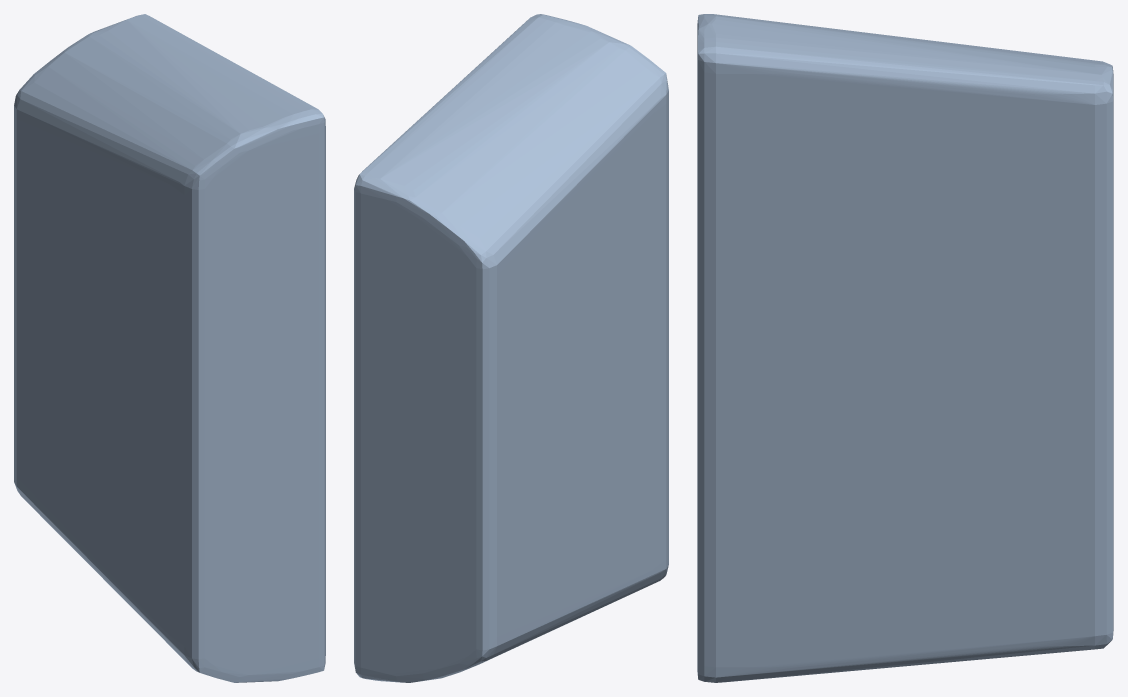
File: left_th_middle_part_6.obj
3 renders of one model, left to right at view 1: azimuth 30°, elevation 25°; view 2: azimuth 150°, elevation 25°; view 3: azimuth 270°, elevation 25°, orthographic. The views are drawn at different scales.
Size of the model in its own units: 5.81 by 22.37 by 13.31.
